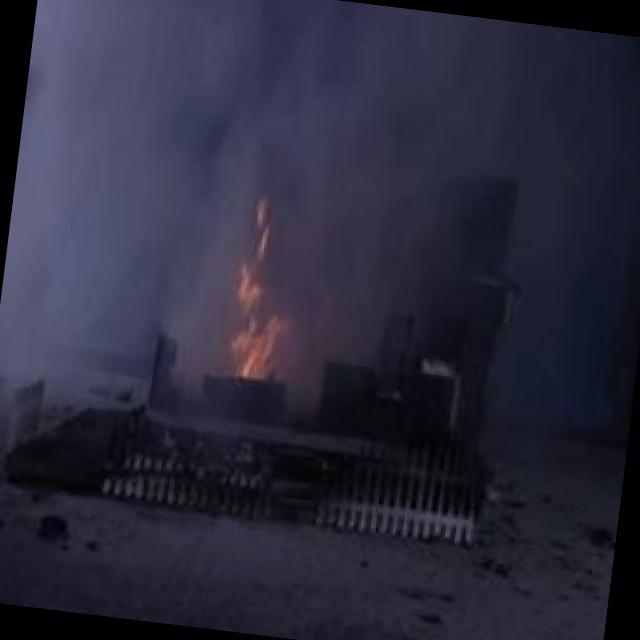fire: (196, 180, 330, 397)
smoke: (11, 0, 528, 269)
